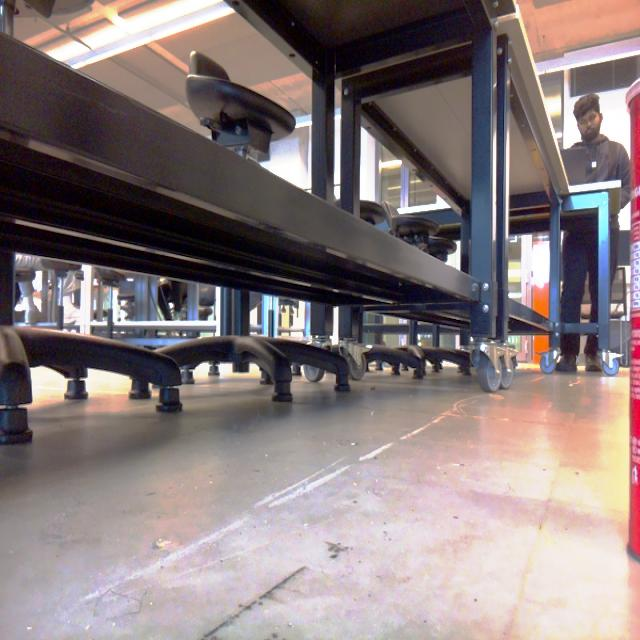redpringles: (612, 73, 640, 568)
